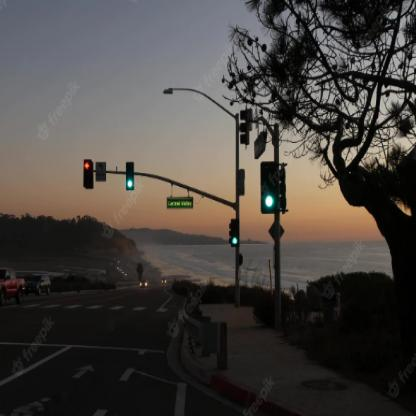green: (261, 162, 280, 215), (231, 218, 240, 248), (126, 161, 135, 190)
left-red: (83, 159, 94, 187)
